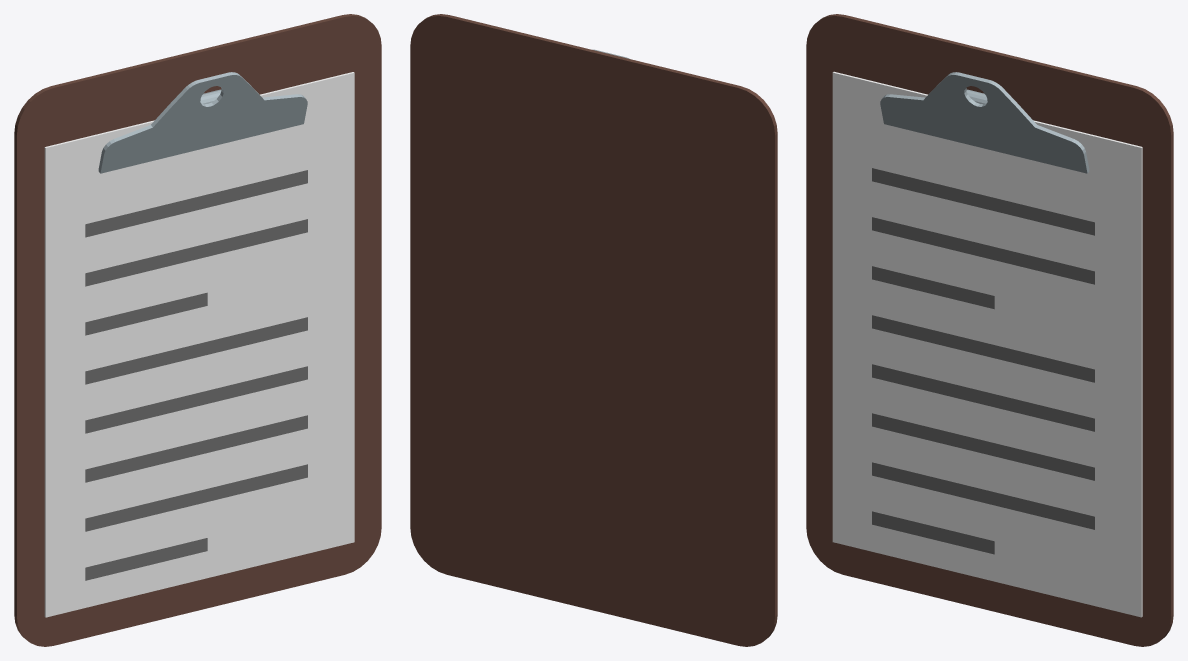
Rendered from clipboard.gltf.
3 views of the same model, side by side, from view 1: azimuth 30°, elevation 25°; view 2: azimuth 150°, elevation 25°; view 3: azimuth 330°, elevation 25° (orthographic).
Visible parts, largest first — view 1: Cube.982; view 2: Cube.982; view 3: Cube.982.
Part boxes in pixels (x1,y1,x2,y2): Cube.982: (14,14,381,646); Cube.982: (410,14,777,646); Cube.982: (806,14,1173,646).
Bounding box in the file's own units: 1.61 × 2.35 × 0.1423.
Materials: 1 (1 with a texture image).
